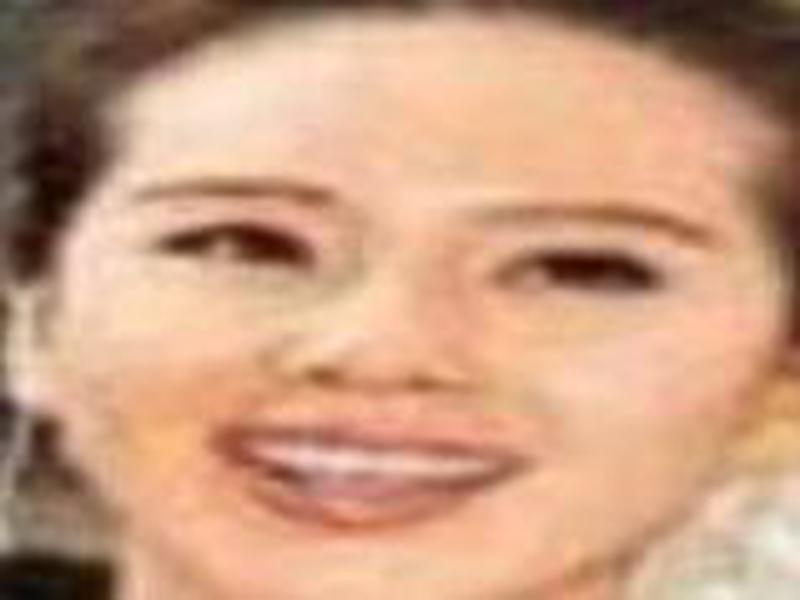without_mask: (63, 40, 763, 595)
